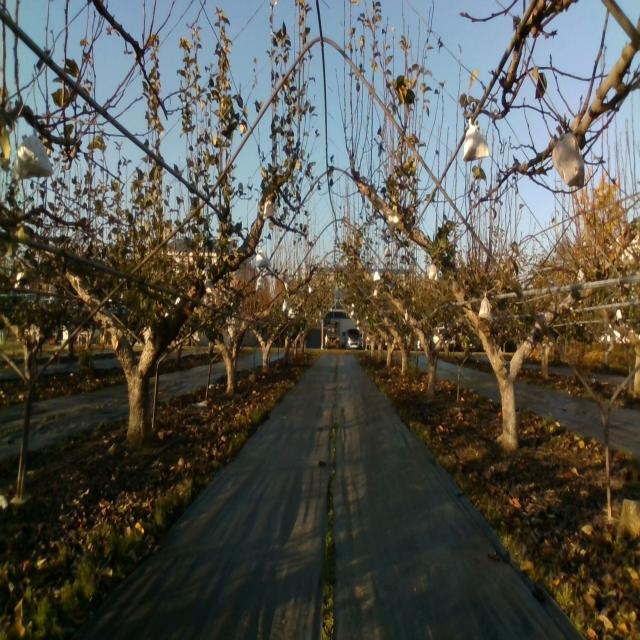pearbags: (9, 126, 53, 179), (552, 131, 585, 190), (463, 117, 491, 159), (478, 290, 494, 322), (255, 246, 271, 268), (263, 198, 276, 221), (387, 212, 399, 236), (428, 261, 440, 282), (203, 274, 214, 296)
